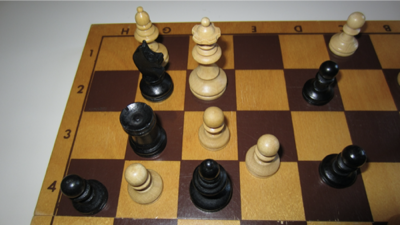black-bishop: (189, 159, 233, 214)
black-knight: (132, 40, 174, 103)
black-pawn: (319, 144, 368, 190), (60, 174, 109, 215), (303, 60, 340, 106)
black-rook: (120, 102, 168, 159)
white-bishop: (134, 7, 170, 69)
white-pawn: (329, 12, 367, 57), (125, 163, 164, 206), (246, 134, 281, 179), (198, 106, 231, 152)
white-queen: (189, 17, 229, 102)
